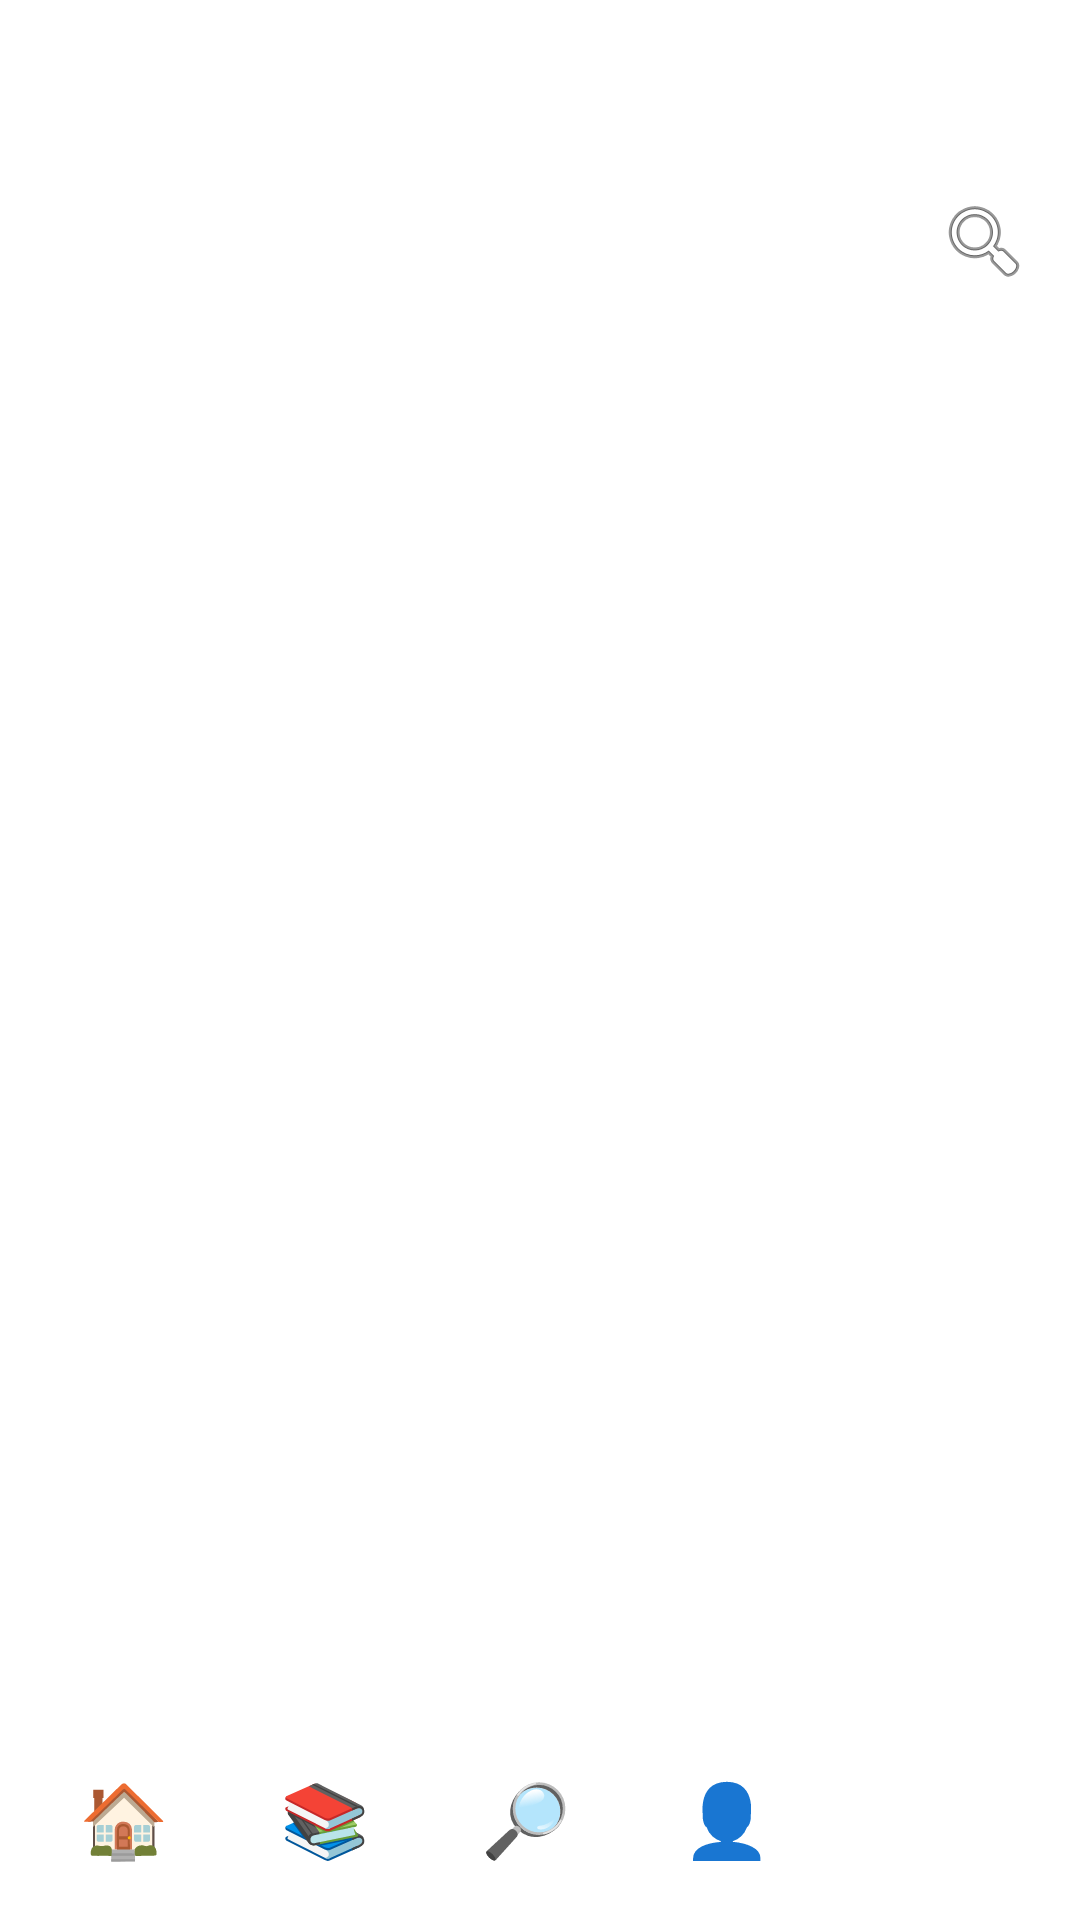

Icon bounding boxes for this 1080px x 1920px phone screenshot, format [x1, y1, x2, y2]:
search: [948, 206, 1020, 277]
